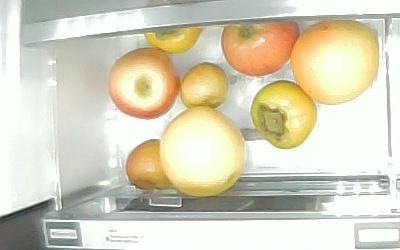apple: (107, 47, 180, 119), (220, 20, 298, 75)
grapefruit: (290, 19, 380, 105), (160, 106, 244, 197)
persimmon: (250, 79, 317, 149), (143, 26, 201, 55)
prune: (126, 139, 170, 190), (180, 63, 227, 108)
